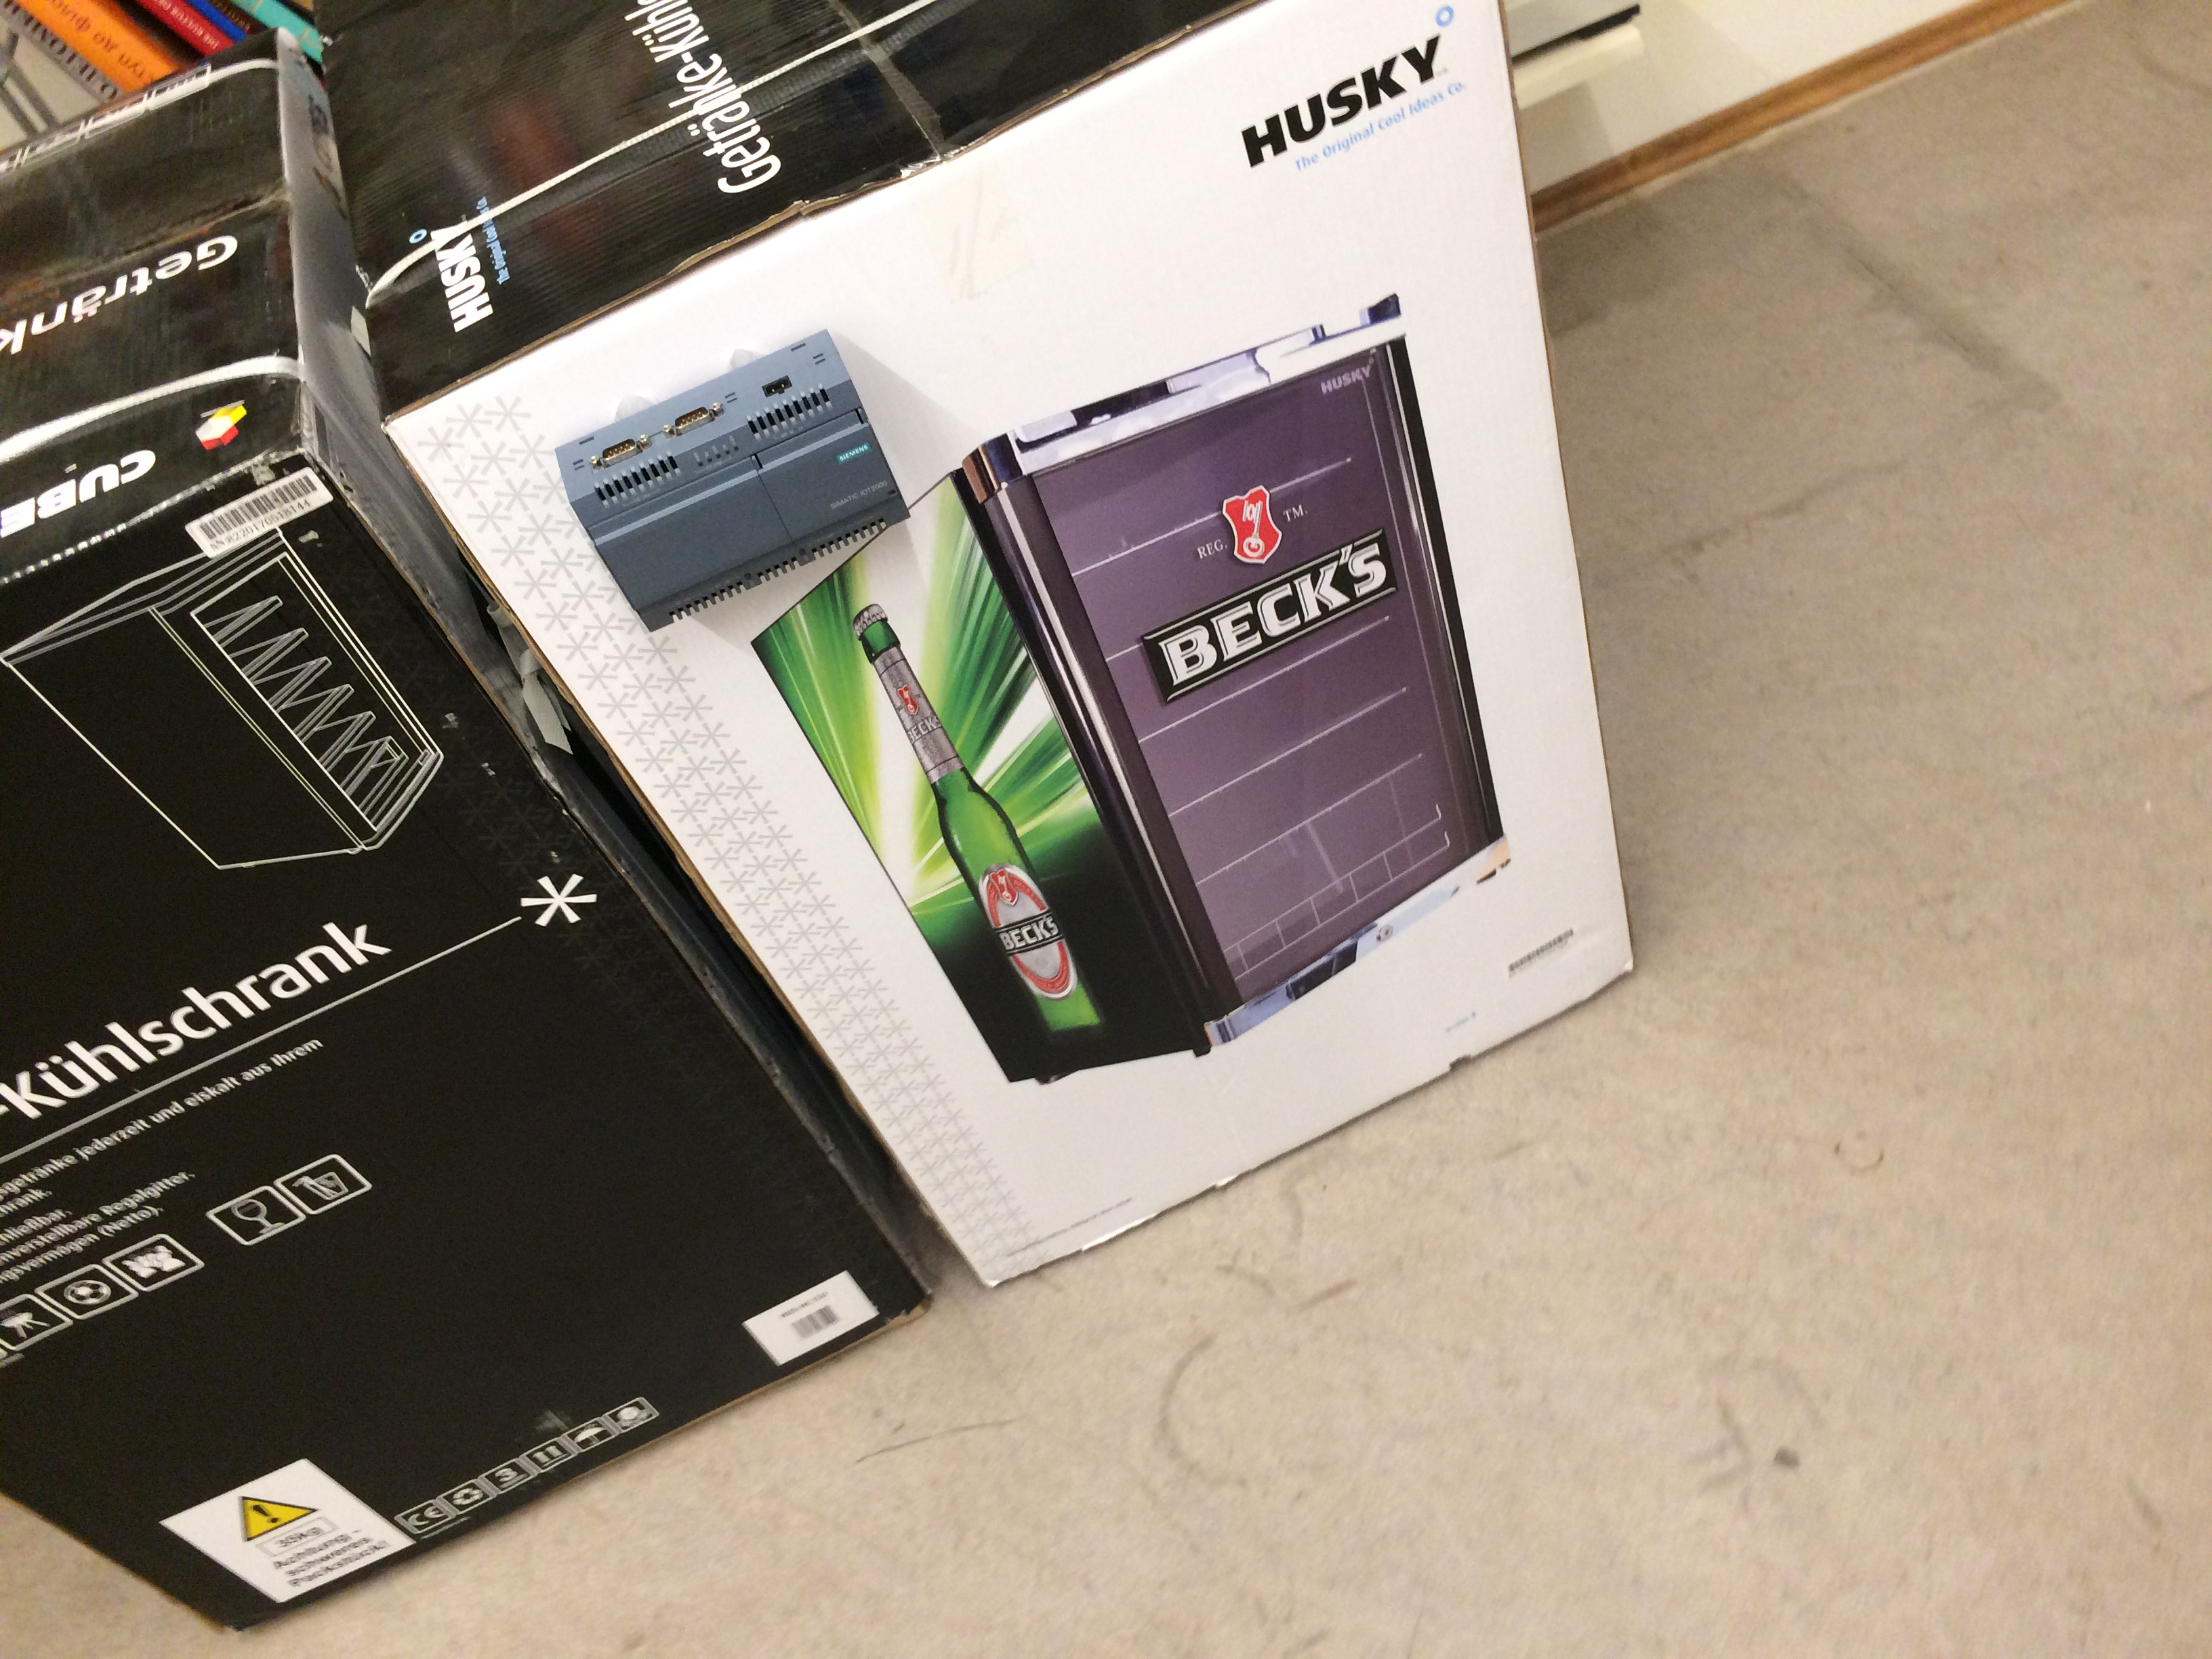iot2000: (550, 326, 914, 638)
